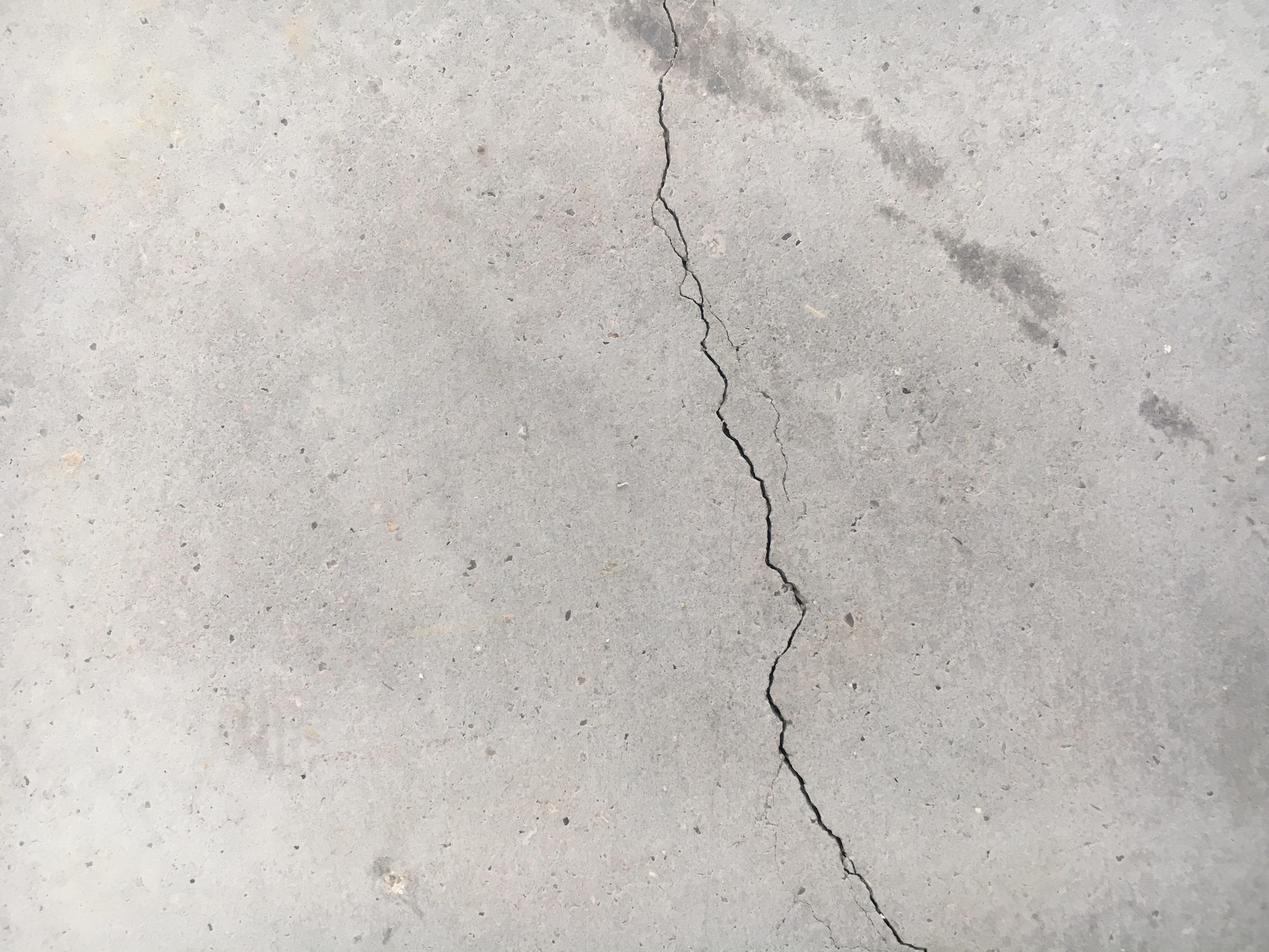Vertical Crack: (644, 3, 927, 948)
